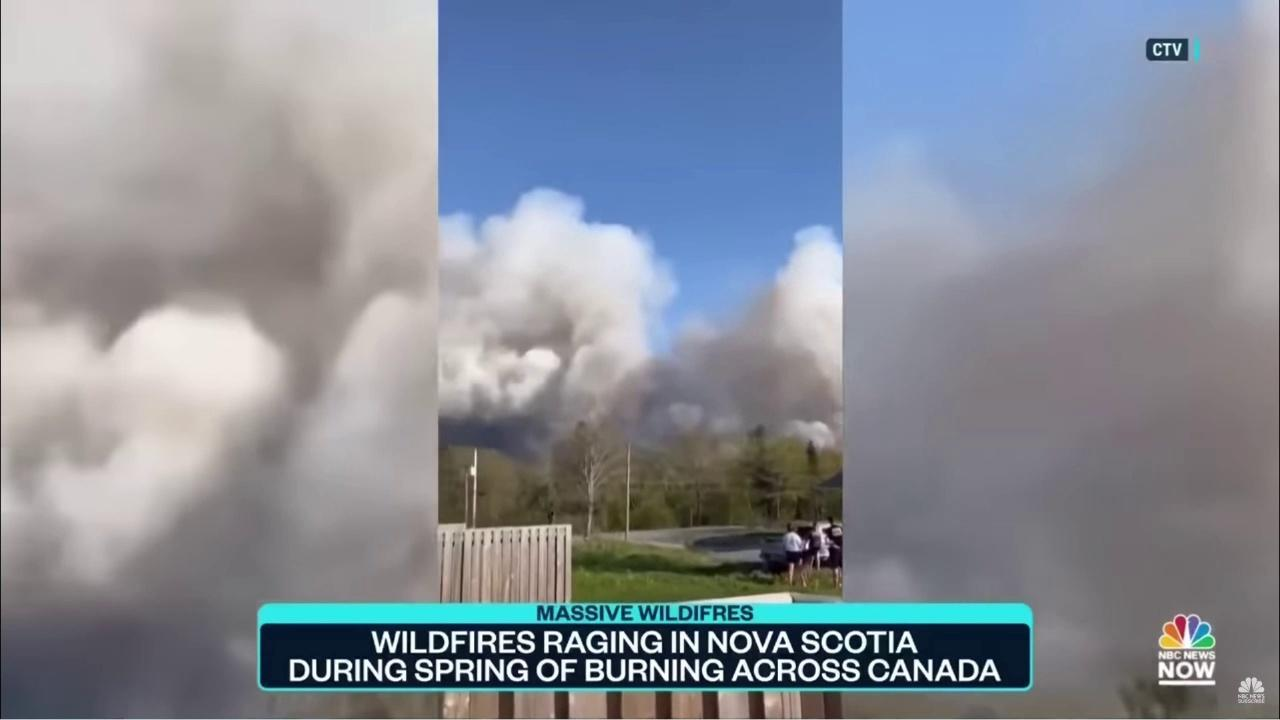smoke: (438, 184, 842, 470)
